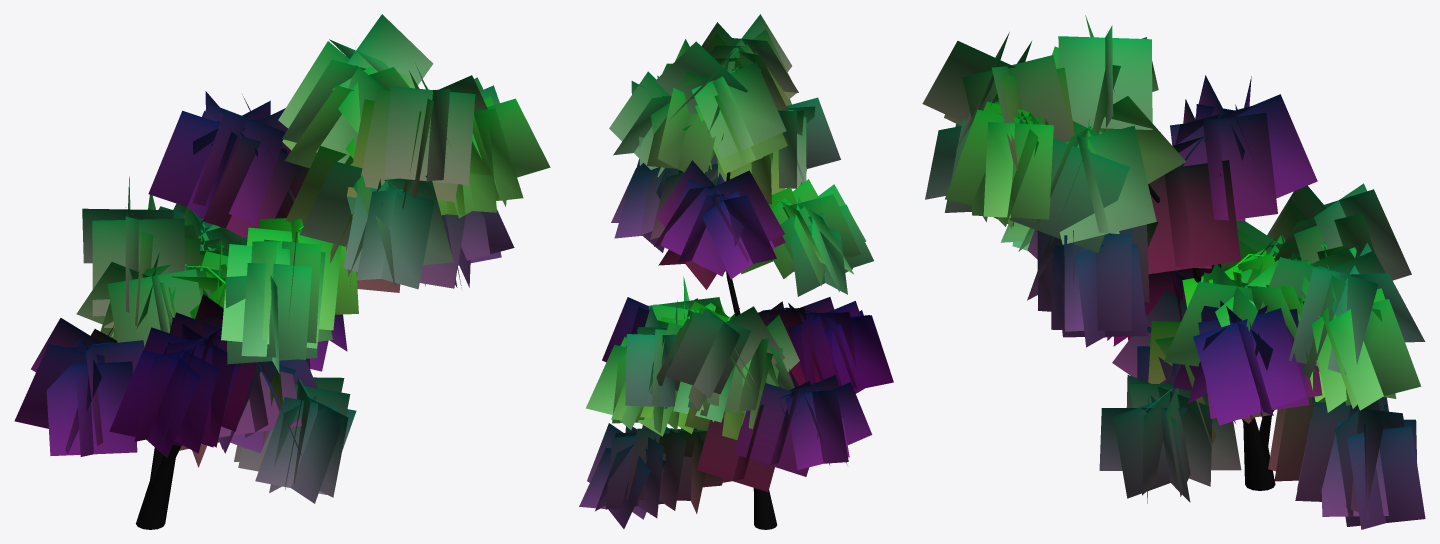
The model's file is M_P13_Tree_8.fbx.
3 renders of one model, left to right at view 1: azimuth 30°, elevation 25°; view 2: azimuth 150°, elevation 25°; view 3: azimuth 270°, elevation 25°, orthographic. The views are drawn at different scales.
Parts seen in each view (by area): view 1: Tree_8; view 2: Tree_8; view 3: Tree_8.
Part boxes in pixels (x1=…): Tree_8: x1=14, y1=14, x2=550, y2=529; Tree_8: x1=579, y1=14, x2=893, y2=529; Tree_8: x1=922, y1=15, x2=1425, y2=529.
Bounding box in the file's own units: 523 × 657 × 555.
